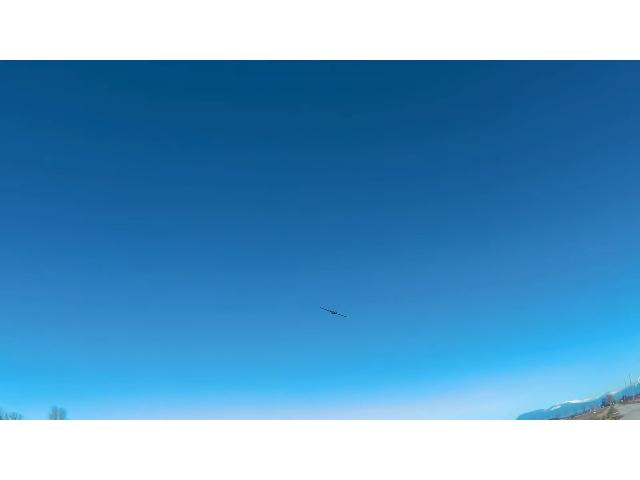Anti-Drone: (300, 293, 372, 331)
